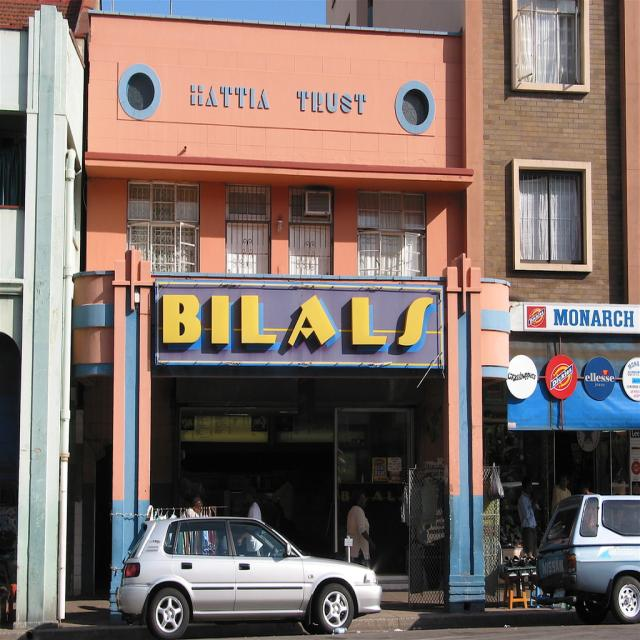car: (106, 513, 370, 627)
